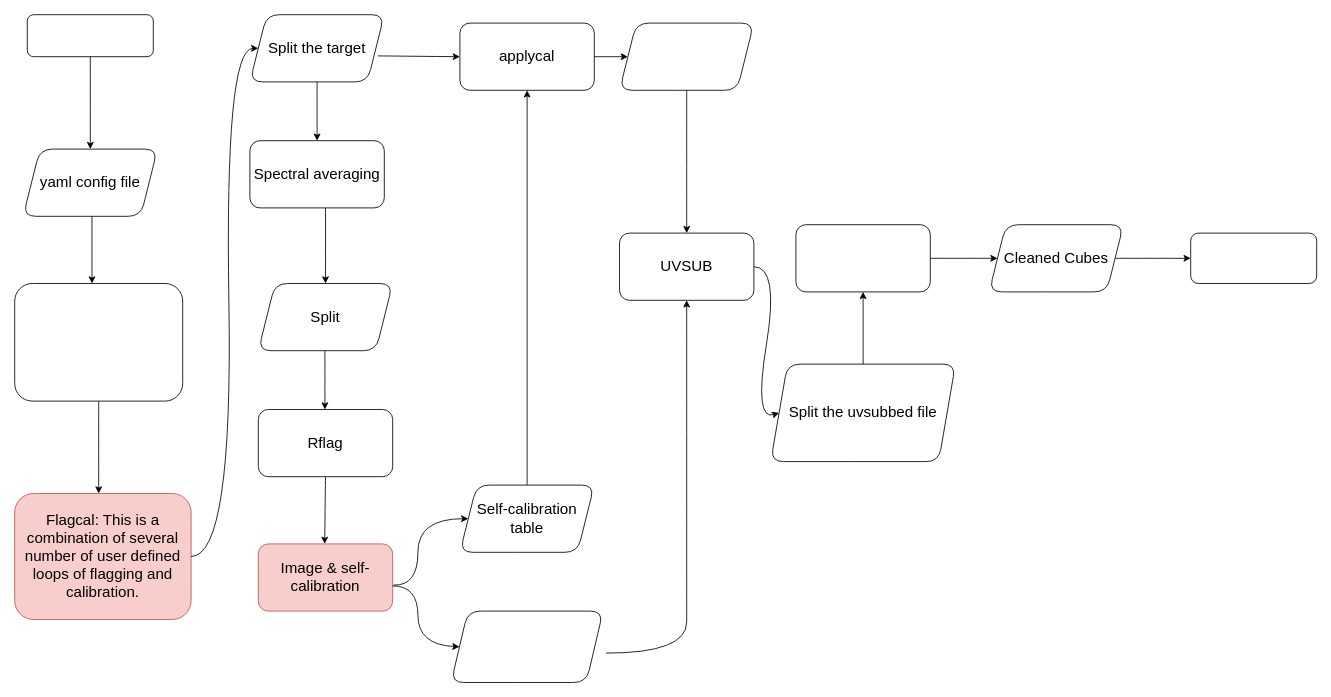
This 1331x697 diagram has some shape labels left out. Each missing label, with the box of its shape:
Continuum image: (450, 610, 603, 682)
Cube clean: (795, 224, 930, 292)
End: (1190, 232, 1317, 284)
Initial Flagging: Bad antennas quack edge channels manual commands tfcrop: (14, 283, 183, 401)
Self-calibrated target: (619, 22, 754, 90)
Start: (26, 14, 153, 57)
